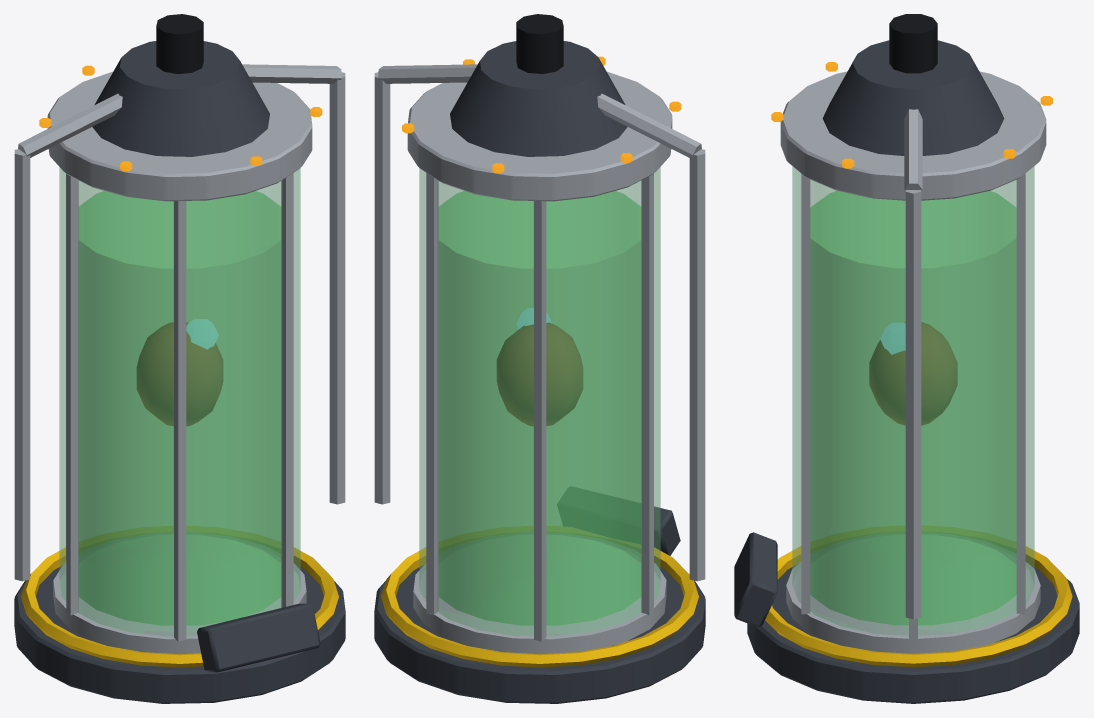
The model's file is specimen_containment_cylinder.glb.
The picture shows the model from 3 angles, left to right: view 1: azimuth 30°, elevation 25°; view 2: azimuth 150°, elevation 25°; view 3: azimuth 270°, elevation 25°; orthographic projection.
Parts seen in each view (by area): view 1: specimen_containment_cylinder; view 2: specimen_containment_cylinder; view 3: specimen_containment_cylinder.
Boxes of the visible parts, bbox=[...] form: specimen_containment_cylinder: bbox=[14, 14, 345, 703]; specimen_containment_cylinder: bbox=[374, 14, 705, 703]; specimen_containment_cylinder: bbox=[734, 14, 1079, 703].
Size of the model in its own units: 1.26 by 2.22 by 1.14.
